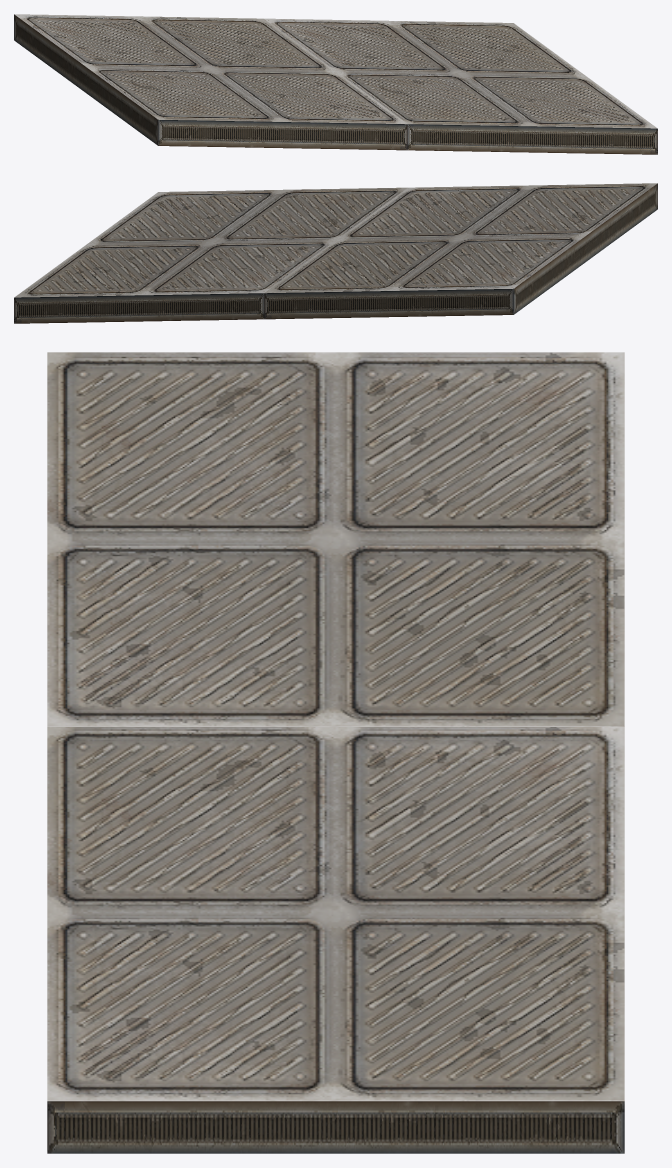
The model's file is scifi_ramp2_4.FBX.
3 renders of one model, top to bottom at view 1: azimuth 30°, elevation 25°; view 2: azimuth 150°, elevation 25°; view 3: azimuth 270°, elevation 25°, orthographic. The views are drawn at different scales.
Visible parts, largest first — view 1: Plane074; view 2: Plane074; view 3: Plane074.
Boxes of the visible parts, <box> form: Plane074: <box>14,14,657,154</box>; Plane074: <box>14,183,657,323</box>; Plane074: <box>47,352,624,1153</box>.
Bounding box in the file's own units: 508 × 152 × 254.
